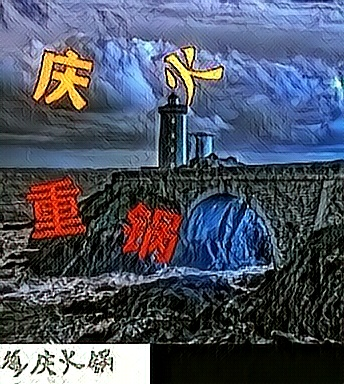B9F8: (119, 202, 188, 266)
BBF0: (157, 43, 226, 107)
C7EC: (28, 46, 97, 110)
D6D8: (21, 176, 90, 240)
